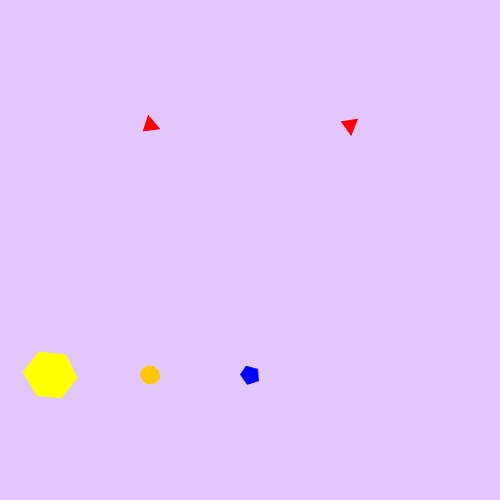hexagon: (20, 350, 81, 401)
nonagon: (136, 361, 165, 389)
pentagon: (236, 361, 264, 389)
triangle: (138, 112, 163, 138), (338, 112, 363, 138)
